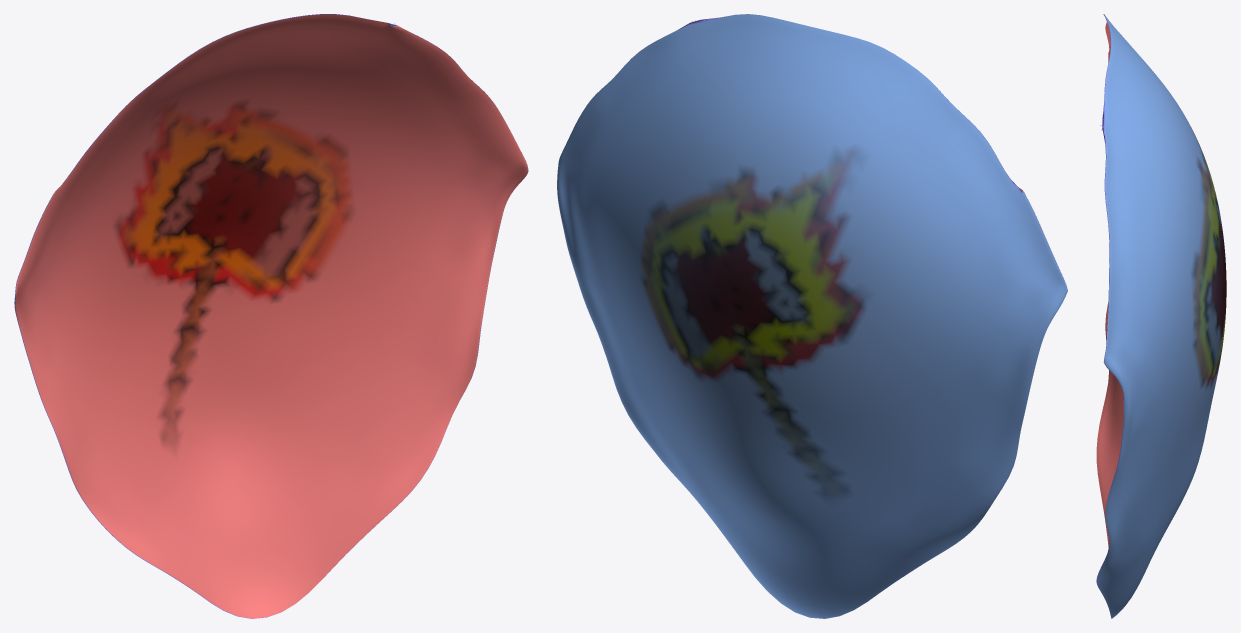
The model's file is fbx_shield_light.fbx.
3 renders of one model, left to right at view 1: azimuth 30°, elevation 25°; view 2: azimuth 150°, elevation 25°; view 3: azimuth 270°, elevation 25°, orthographic. The views are drawn at different scales.
Parts seen in each view (by area): view 1: shit1; view 2: shit1; view 3: shit1.
Boxes of the visible parts, bbox=[...] form: shit1: bbox=[14, 14, 528, 618]; shit1: bbox=[557, 14, 1067, 618]; shit1: bbox=[1096, 14, 1226, 618].
Size of the model in its own units: 6.67 by 7.39 by 1.53.
